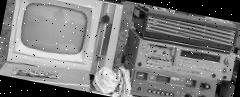electronic: (3, 0, 125, 80)
